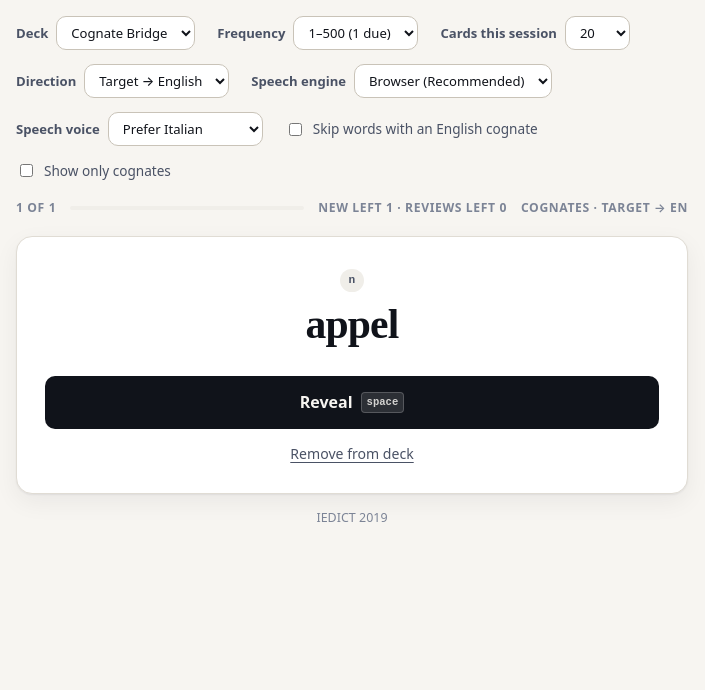
Test: StudyPage › shows selected-language cognates on a revealed tier-2 card
Expected: the heading "appel" is shown, [306, 300, 398, 350]
Click the button "Reveal space" at point(352, 403), box [45, 376, 659, 429]
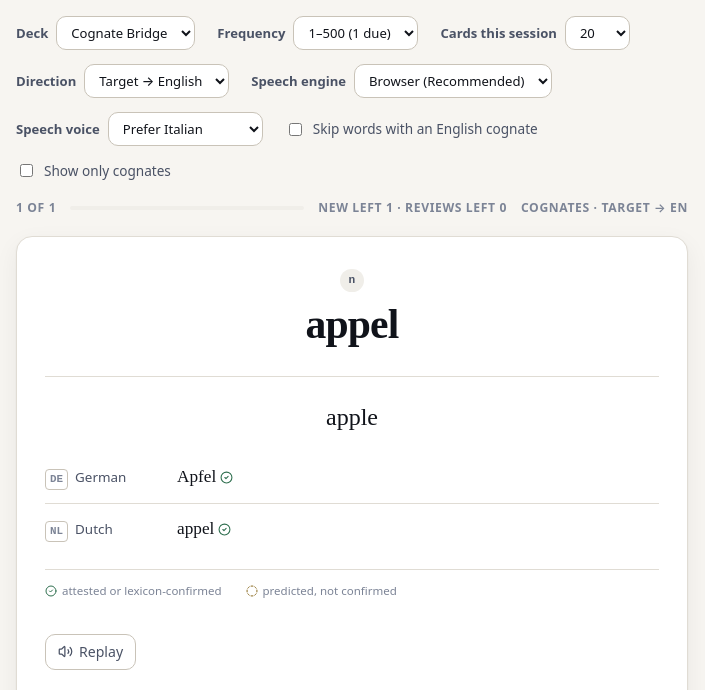
Expected: the text "apple" is shown, [326, 404, 378, 430]
Expected: the text "Apfel" is shown, [177, 464, 233, 491]
Expected: the text "German" is shown, [75, 467, 126, 488]
